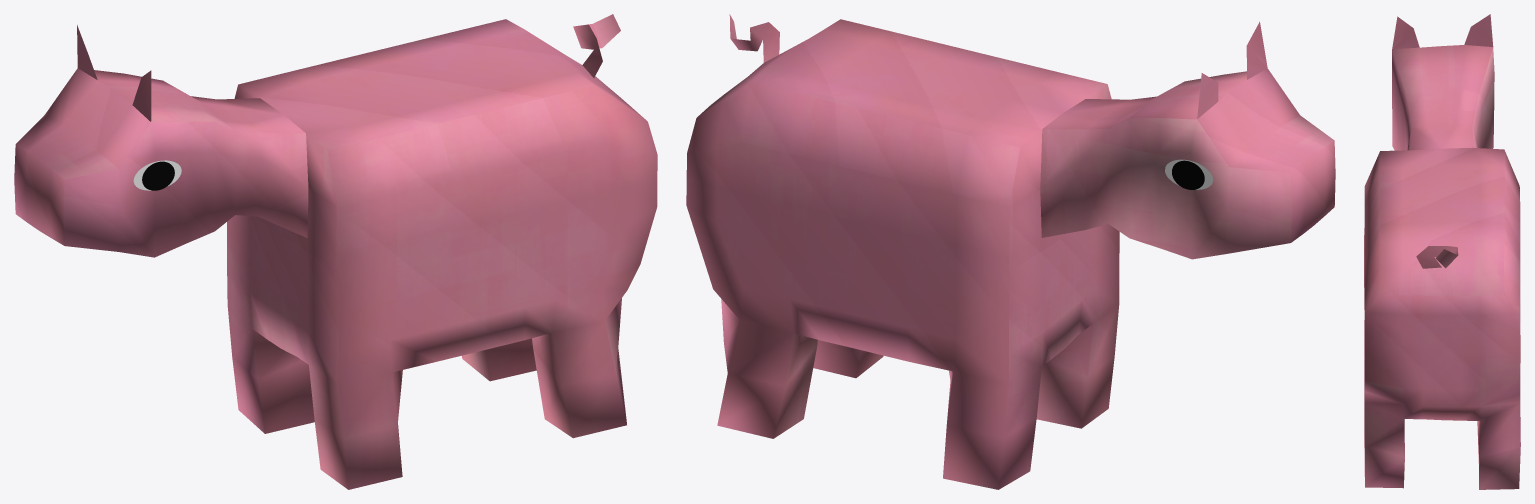
Rendered from pig_wAnimation.glb.
3 views of the same model, side by side, from view 1: azimuth 30°, elevation 25°; view 2: azimuth 150°, elevation 25°; view 3: azimuth 270°, elevation 25° (orthographic). The views are drawn at different scales.
Parts seen in each view (by area): view 1: piggy.001; view 2: piggy.001; view 3: piggy.001.
Boxes of the visible parts, x1,y1,x2,y2 form: piggy.001: (14, 14, 657, 489); piggy.001: (686, 14, 1335, 489); piggy.001: (1364, 14, 1520, 489).
Bounding box in the file's own units: 6.13 × 4.54 × 2.03.
Materials: 1 (1 with a texture image).
